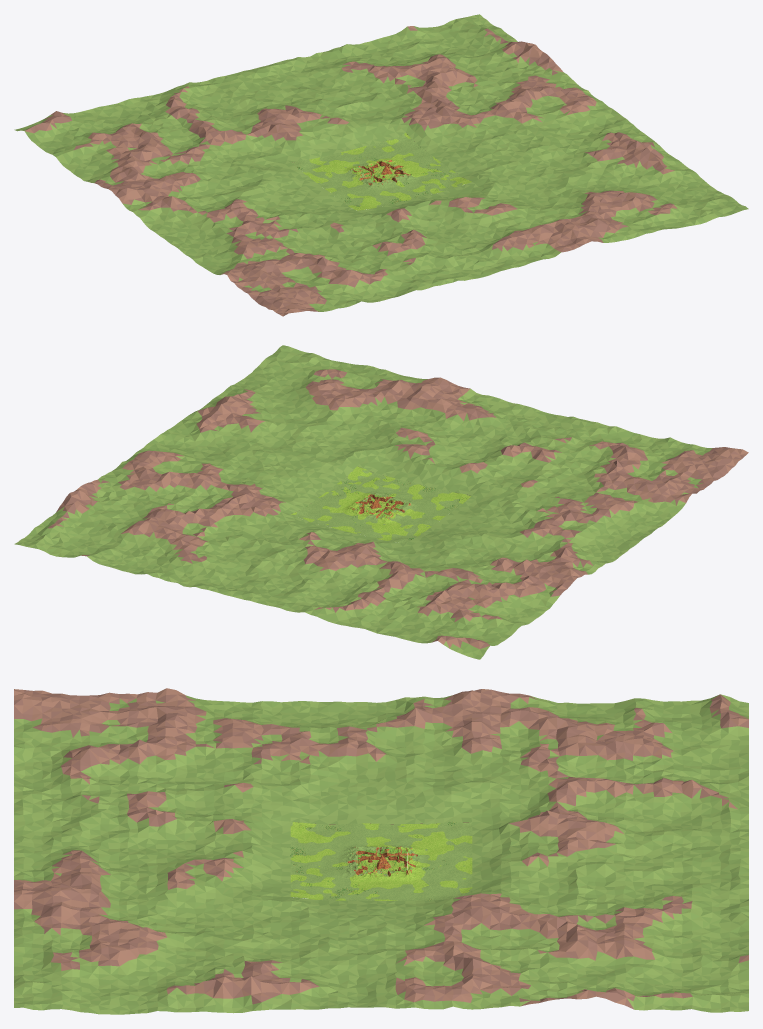
The model's file is GliderCanyon_v2_Scene.glb.
The picture shows the model from 3 angles, top to bottom: view 1: azimuth 30°, elevation 25°; view 2: azimuth 150°, elevation 25°; view 3: azimuth 270°, elevation 25°; orthographic projection. The views are drawn at different scales.
Parts seen in each view (by area): view 1: SM_Terrain_Far, SM_Terrain_Near, SM_Terrain_Play; view 2: SM_Terrain_Far, SM_Terrain_Near, SM_Terrain_Play; view 3: SM_Terrain_Far, SM_Terrain_Near, SM_Terrain_Play.
Part boxes in pixels (x1,y1,x2,y2): SM_Terrain_Far: (14, 14, 748, 316); SM_Terrain_Near: (291, 132, 471, 210); SM_Terrain_Play: (357, 161, 405, 182); SM_Terrain_Far: (14, 345, 748, 659); SM_Terrain_Near: (291, 466, 471, 544); SM_Terrain_Play: (356, 494, 404, 516); SM_Terrain_Far: (14, 688, 748, 1014); SM_Terrain_Near: (290, 821, 472, 900); SM_Terrain_Play: (357, 846, 406, 873).
Bounding box in the file's own units: 19250 × 935 × 19250.
Materials: 2 (2 with a texture image).
